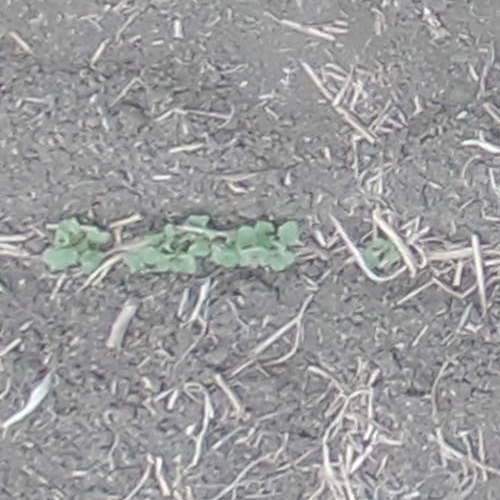clumped: (140, 211, 300, 275)
isolated: (44, 217, 109, 271), (361, 236, 403, 271)
